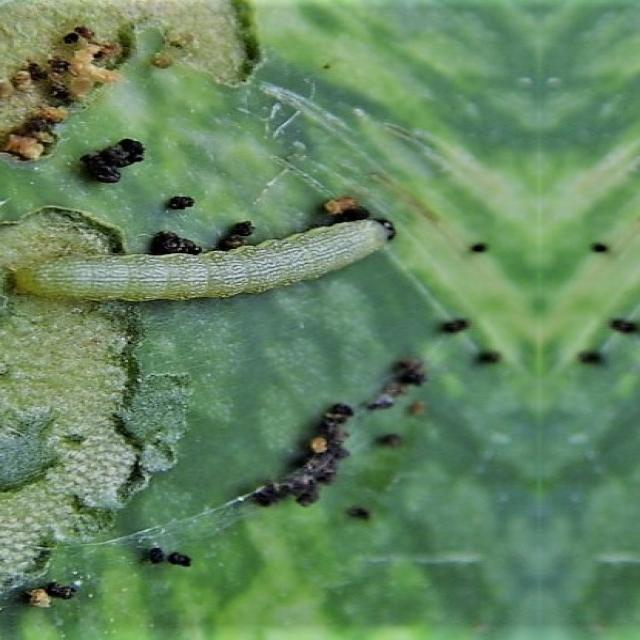Armyworm: (5, 180, 438, 337)
